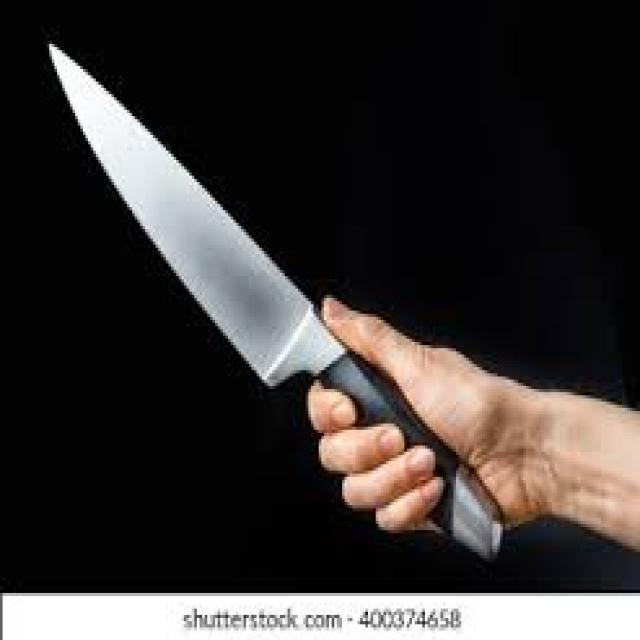faca: (38, 35, 544, 552)
